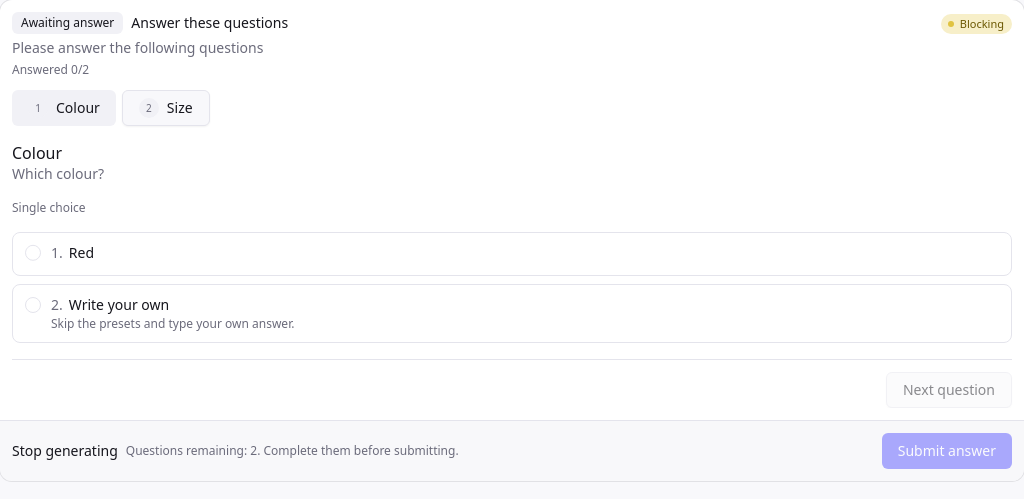
Scenario: QuestionnaireInteractionCard › shows one question at a time and moves between them without claiming to be tabs
Check: the radio button labelled "Large" is not shown
Click the button "2 Size" at (166, 108), box 122,90 -> 210,126
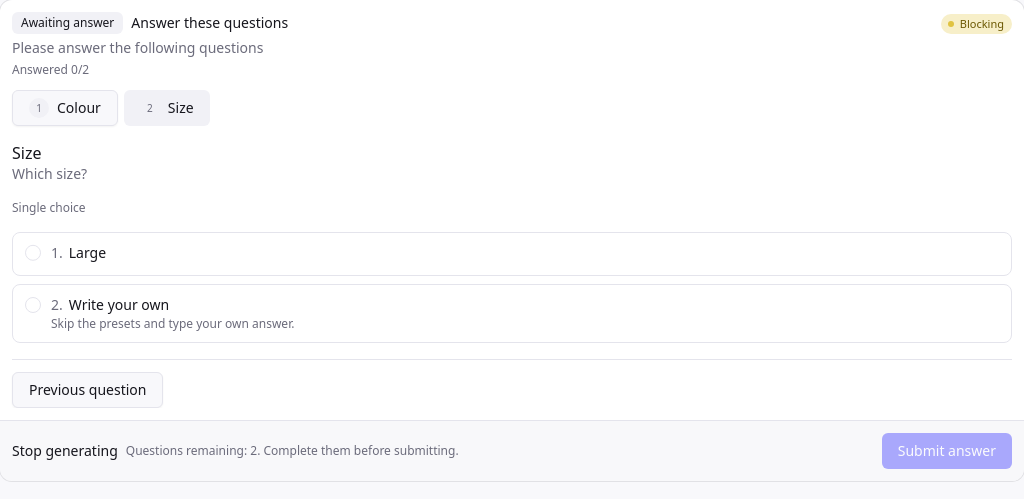
Check: the element named "Questions to answer" is shown, box 12,90 -> 210,126
Check: the radio button labelled "1. Large" is shown, box 12,232 -> 1012,276
